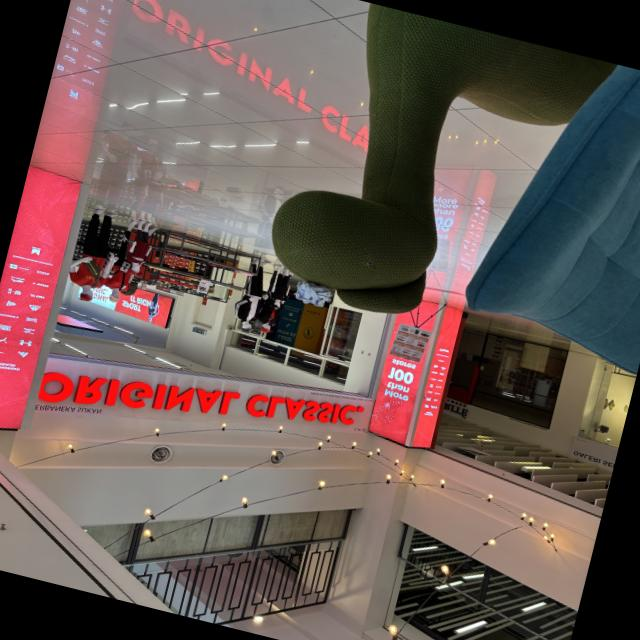crumpled_paper: (292, 278, 334, 310)
